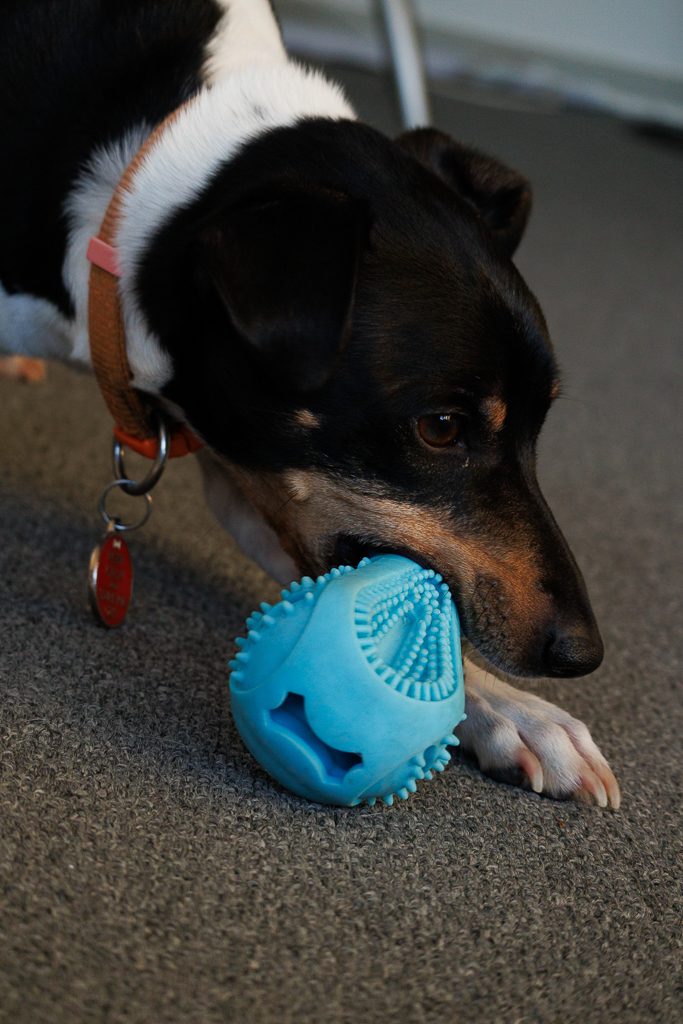Dog: (0, 0, 644, 829)
